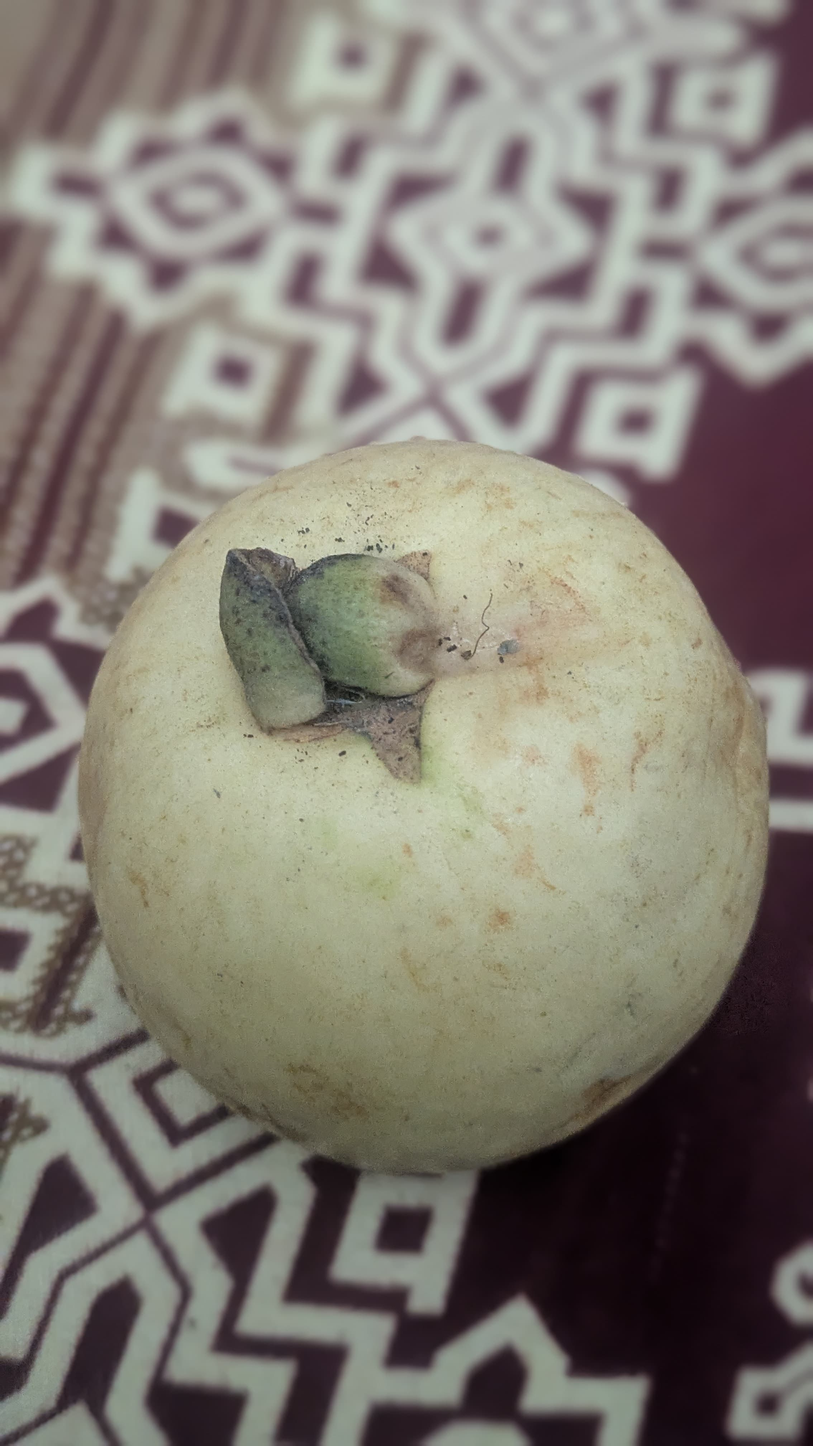guava: (19, 226, 653, 1211)
